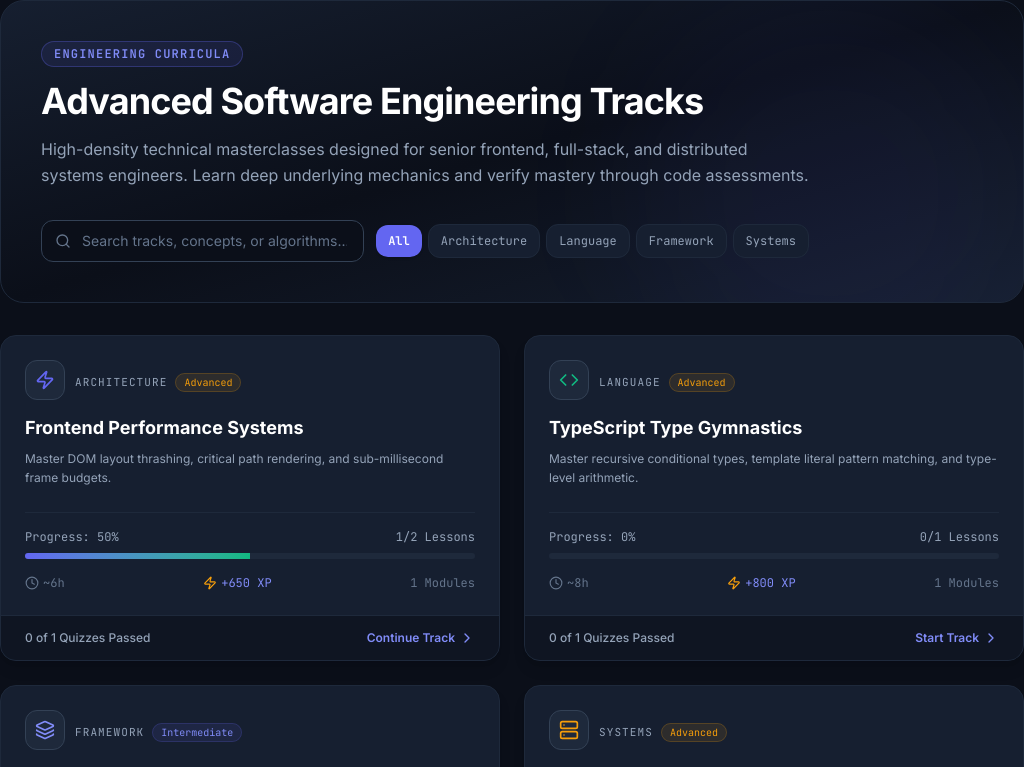
Test: Course Catalog & Components › filters courses by category pill
The width and height of the screenshot is (1024, 767).
# Click 'Language' category pill
Click the tab "Language": {"x": 588, "y": 241} [546, 224, 630, 258]
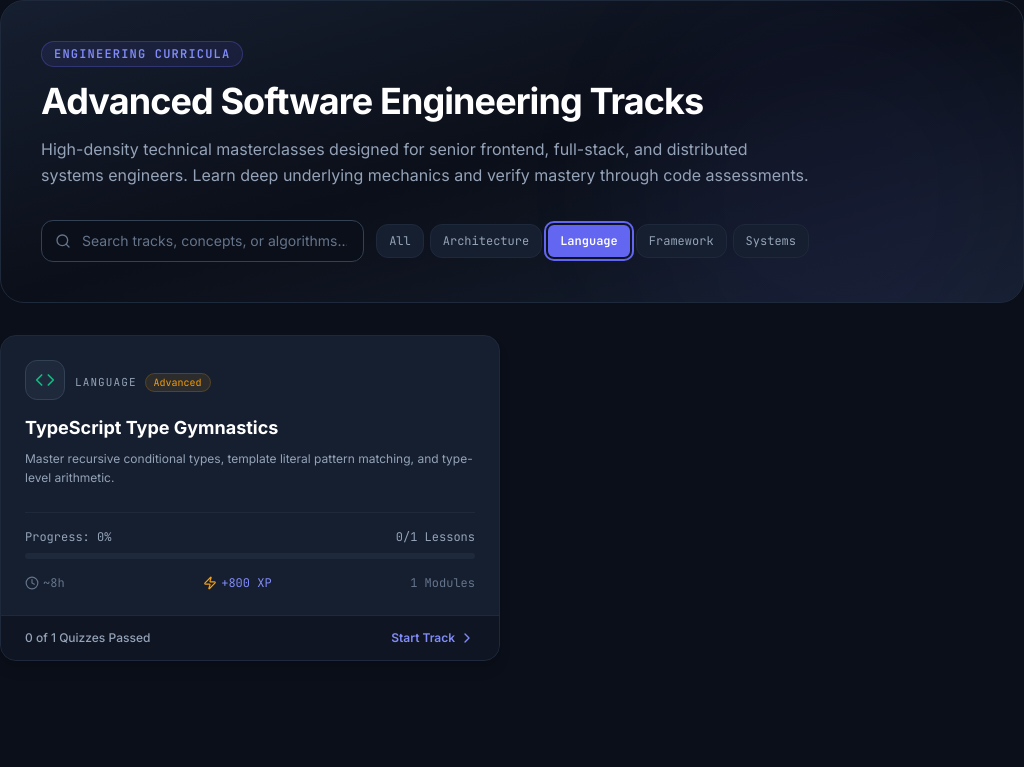
Expected: the heading "TypeScript Type Gymnastics" is shown, [25, 417, 278, 438]
Expected: the heading "Frontend Performance Systems" is gone
